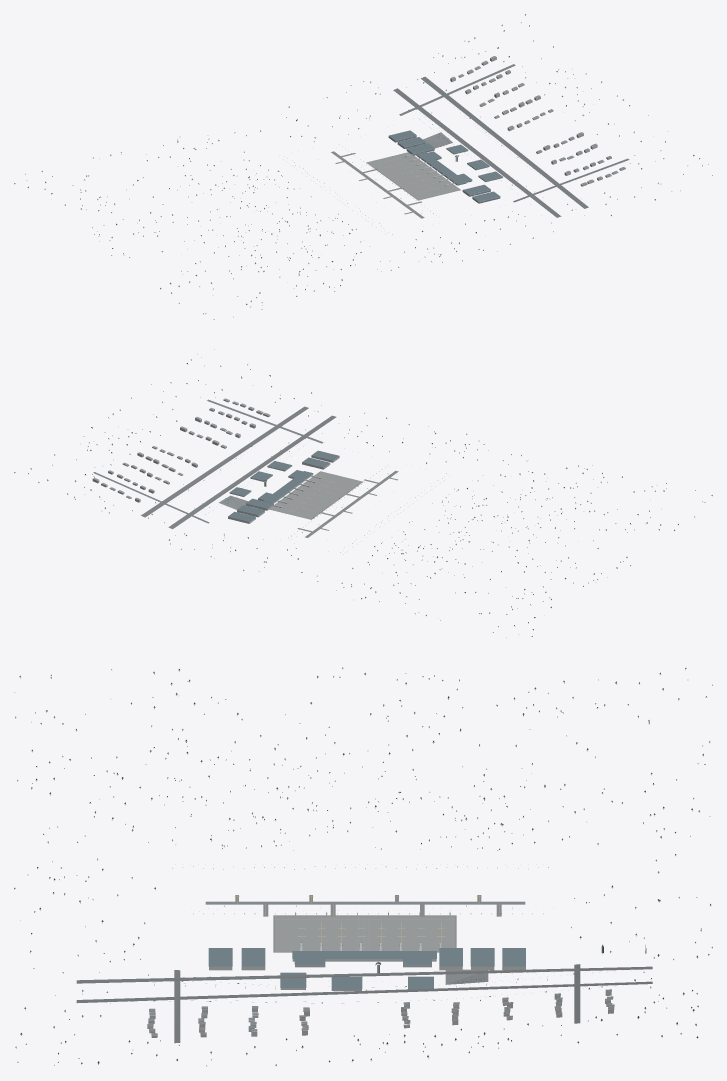
Rendered from startway_approved.glb.
3 views of the same model, one above another, from view 1: azimuth 30°, elevation 25°; view 2: azimuth 150°, elevation 25°; view 3: azimuth 270°, elevation 25° (orthographic). The views are drawn at different scales.
Visible parts, largest first — view 1: road, taxi, terminal, vegetation; view 2: road, taxi, terminal, vegetation; view 3: taxi, road, terminal, vegetation.
Boxes of the visible parts, <box> form: road: <box>393,56,629,217</box>; taxi: <box>331,151,460,218</box>; terminal: <box>367,130,502,203</box>; vegetation: <box>14,14,712,319</box>; road: <box>92,398,336,529</box>; taxi: <box>269,470,398,537</box>; terminal: <box>228,450,357,532</box>; vegetation: <box>14,349,712,636</box>; taxi: <box>205,895,525,952</box>; road: <box>76,964,652,1043</box>; terminal: <box>208,907,525,990</box>; vegetation: <box>14,667,712,1065</box>.
Size of the model in its own units: 10372 by 814 by 6879.
